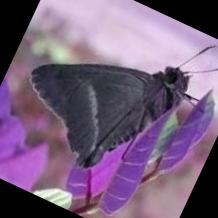butterfly: (31, 63, 188, 168)
